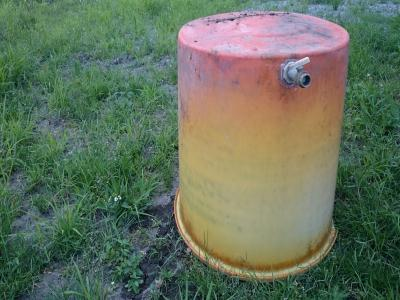bucket: (175, 7, 351, 279)
